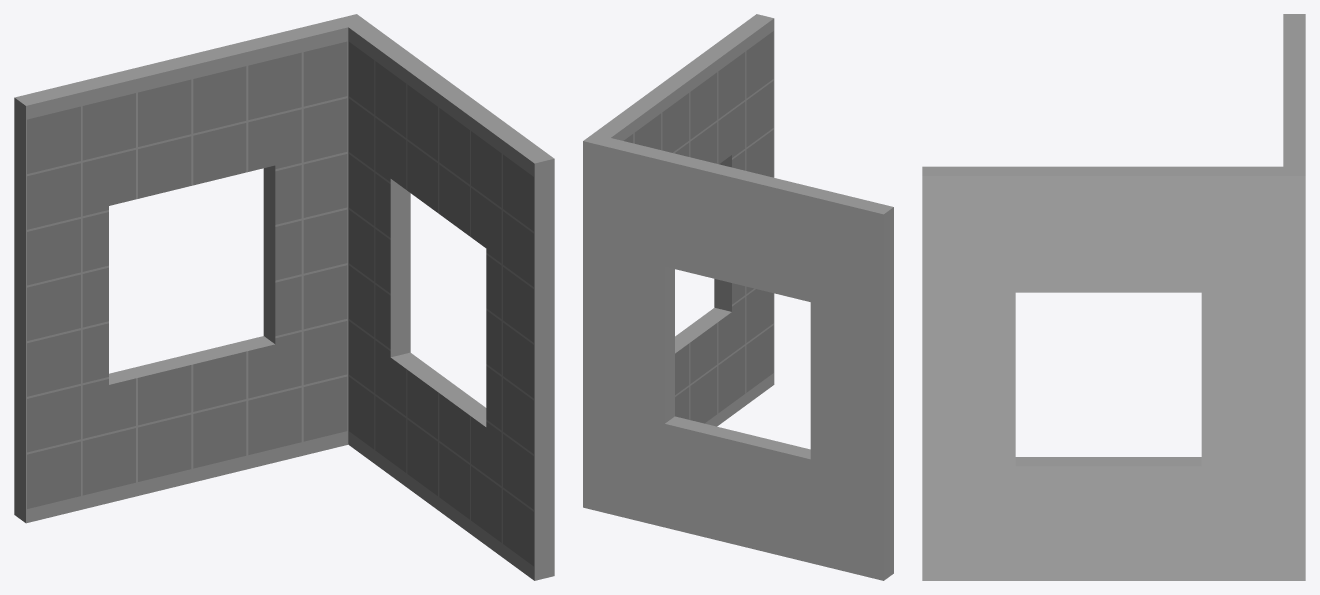
File: Wall1_C7_12.fbx
The picture shows the model from 3 angles, left to right: view 1: azimuth 30°, elevation 25°; view 2: azimuth 150°, elevation 25°; view 3: azimuth 270°, elevation 25°; orthographic projection. The views are drawn at different scales.
Parts seen in each view (by area): view 1: Wall1_C7_12; view 2: Wall1_C7_12; view 3: Wall1_C7_12.
Part boxes in pixels (left/top/right/bottom): Wall1_C7_12: left=14, top=14, right=554, bottom=580; Wall1_C7_12: left=583, top=14, right=893, bottom=580; Wall1_C7_12: left=922, top=14, right=1305, bottom=580.
Bounding box in the file's own units: 258 × 300 × 258.
